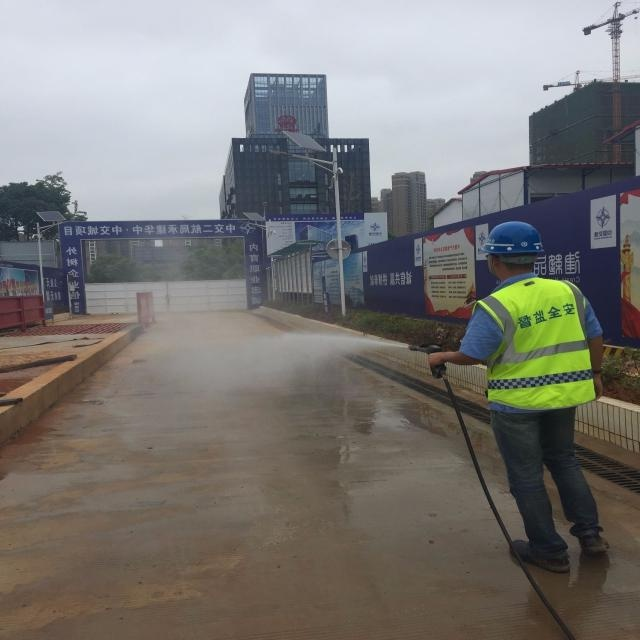Con_Casco: (483, 221, 542, 278)
Con_Chaleco: (478, 284, 595, 408)
